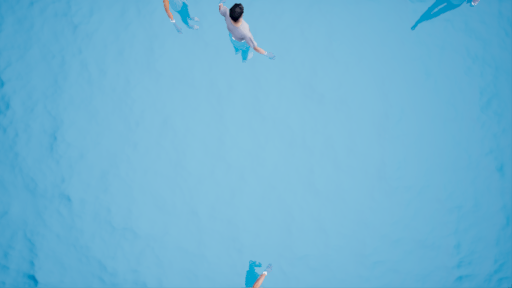person: (217, 1, 270, 72), (409, 1, 499, 40), (155, 1, 212, 47), (235, 248, 268, 288)
